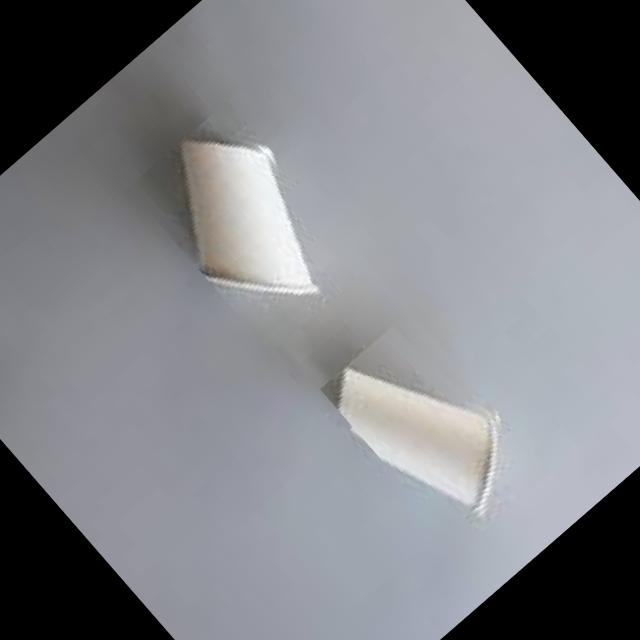PaperCardboard: (339, 366, 499, 517), (180, 139, 318, 295)
